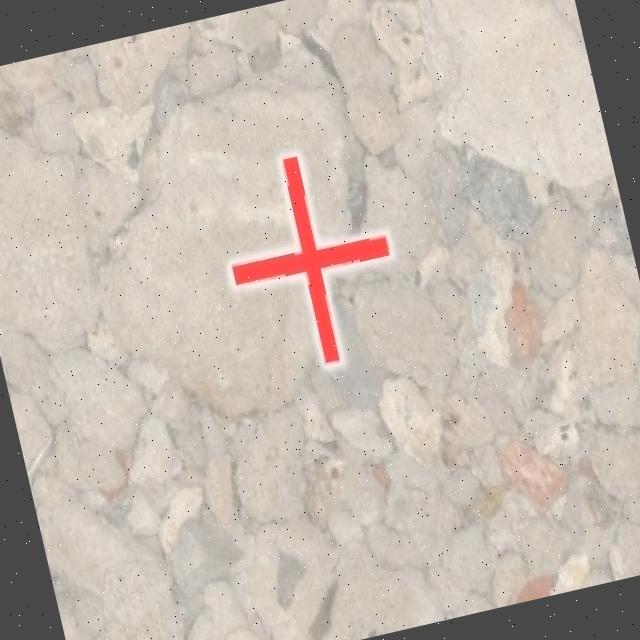x_marker: (208, 139, 410, 380)
